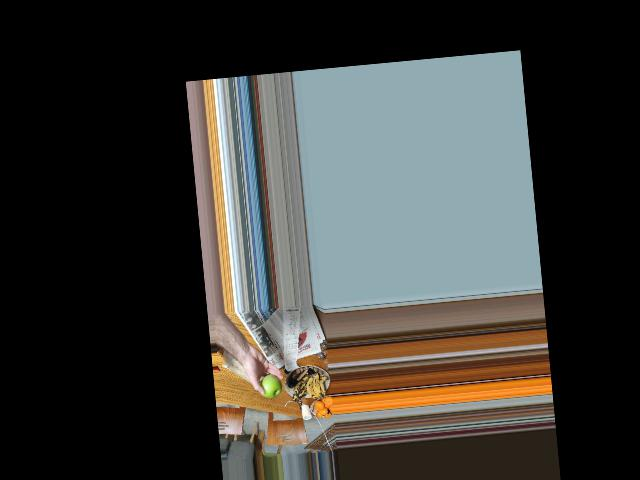apple: (254, 369, 283, 400)
